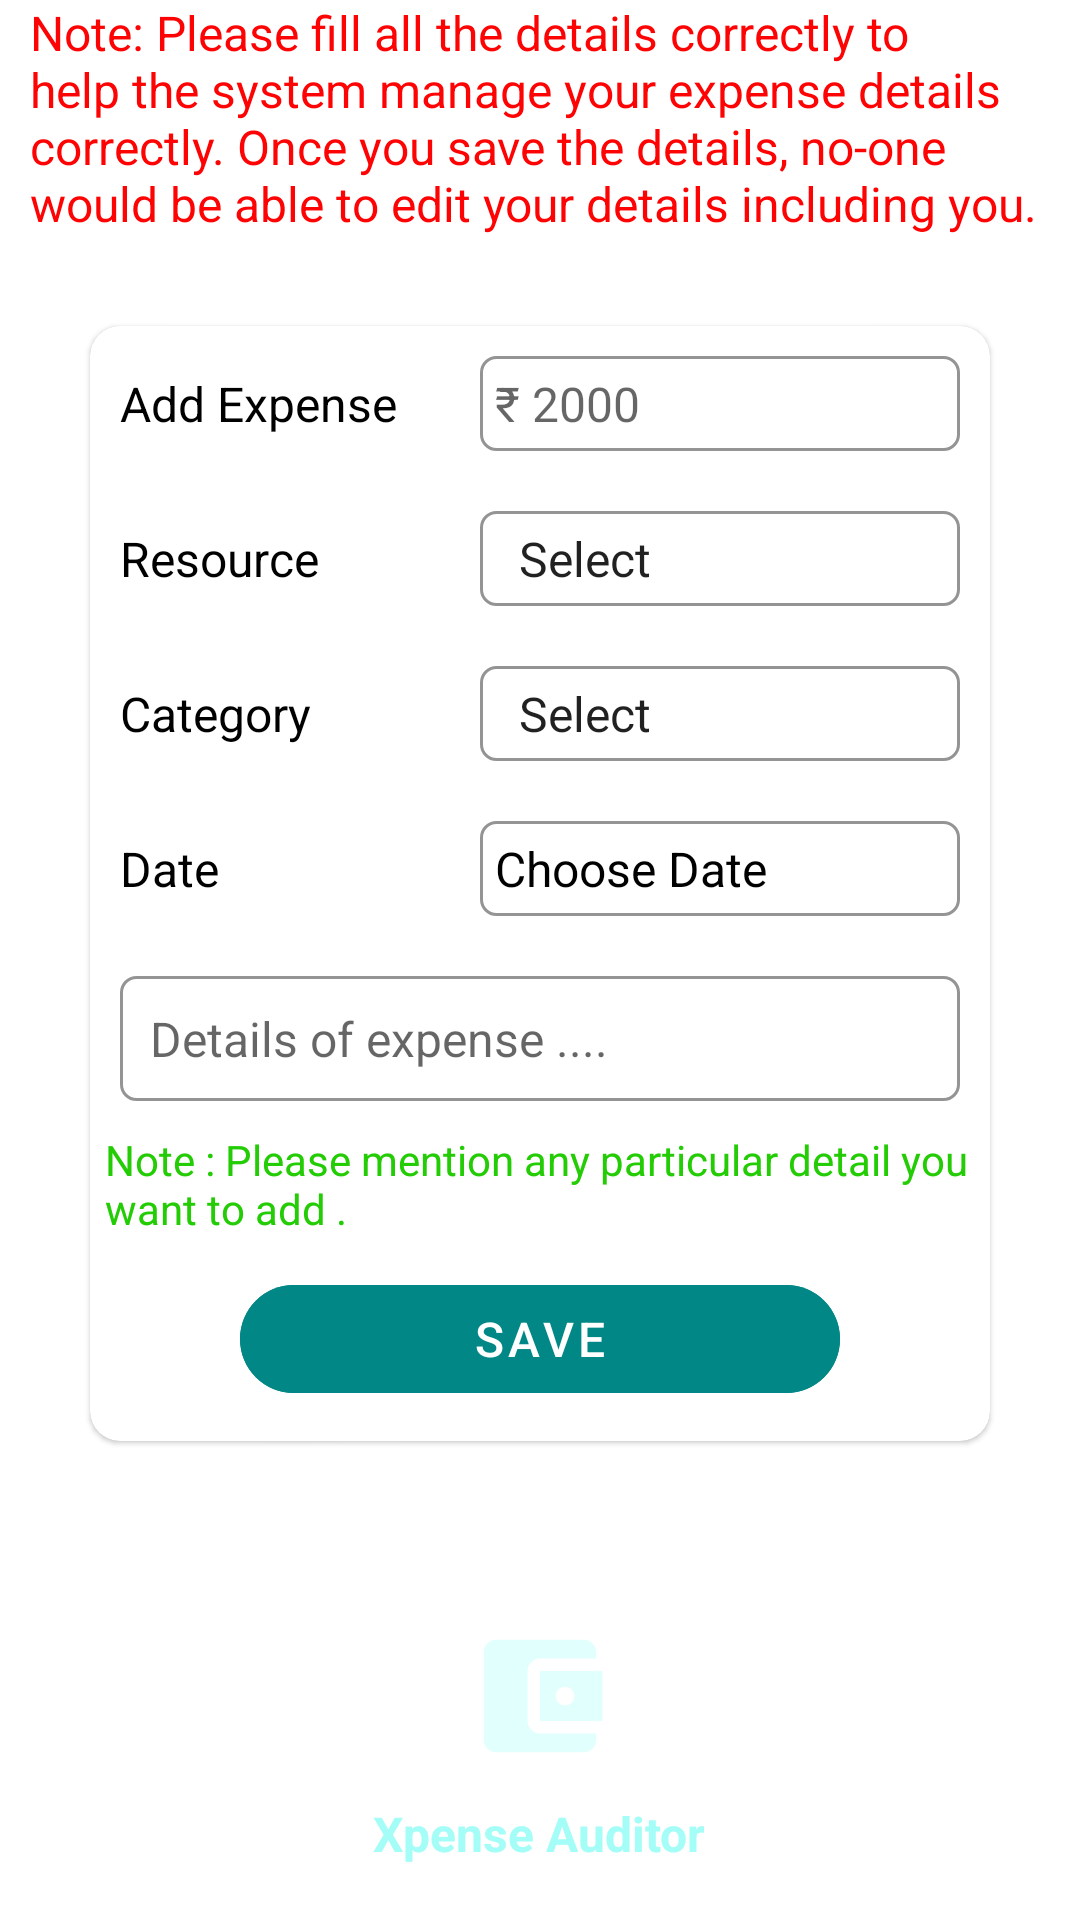

Named icons in this screenshot (1080 x 1920) and their bounding boxes, region(x1, y1, x2, y2):
wallet: region(484, 1640, 602, 1752)
